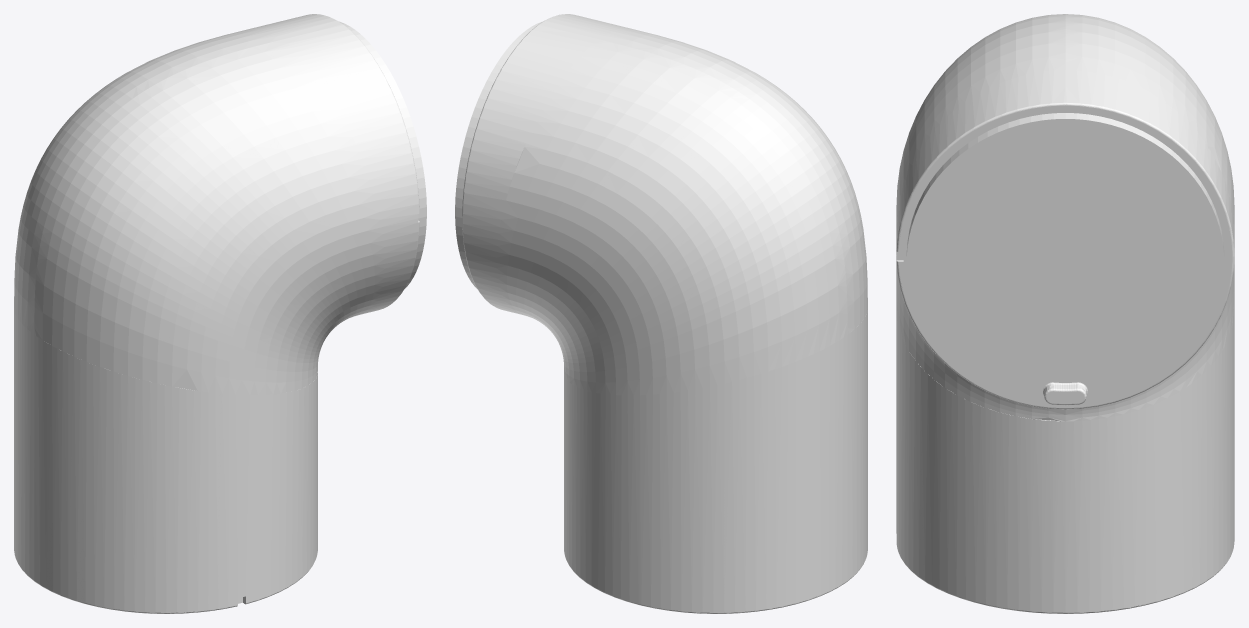
3 renders of one model, left to right at view 1: azimuth 30°, elevation 25°; view 2: azimuth 150°, elevation 25°; view 3: azimuth 270°, elevation 25°, orthographic. The views are drawn at different scales.
Parts seen in each view (by area): view 1: Link2; view 2: Link2; view 3: Link2.
Part boxes in pixels (bbox=[...]): Link2: bbox=[14, 14, 426, 613]; Link2: bbox=[455, 14, 867, 613]; Link2: bbox=[896, 14, 1234, 613].
Size of the model in its own units: 0.0605 by 0.048 by 0.0871.
Materials: 1 (1 with a texture image).
